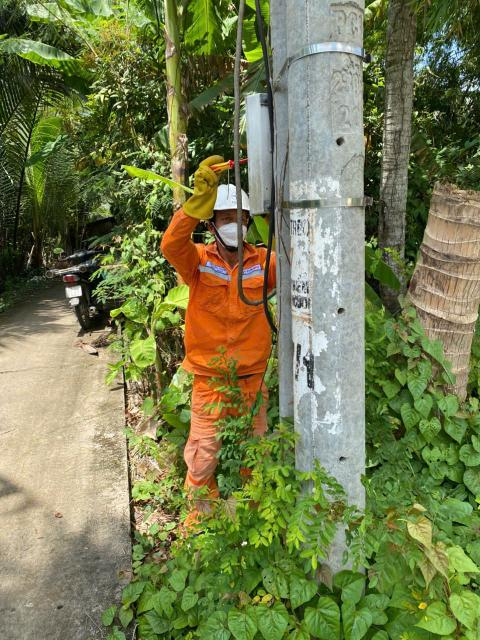gloves: (167, 149, 222, 226)
helmet: (202, 176, 258, 225)
